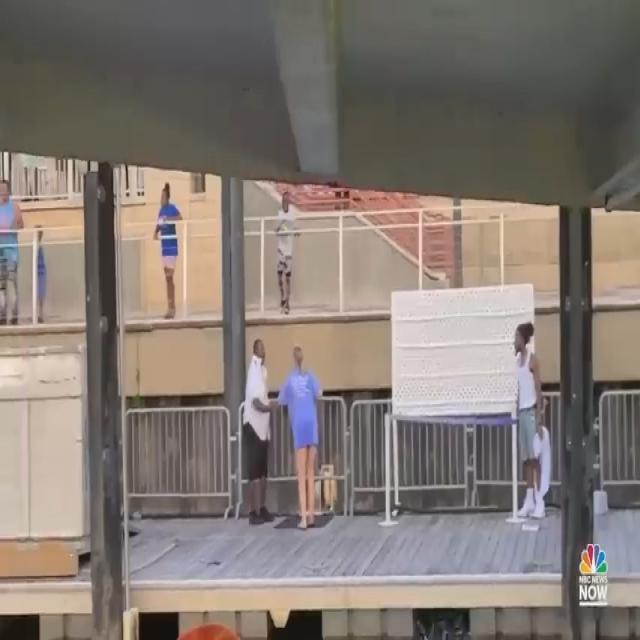non-fight: (225, 325, 331, 533), (498, 311, 560, 540), (144, 176, 195, 326), (266, 187, 306, 324)
